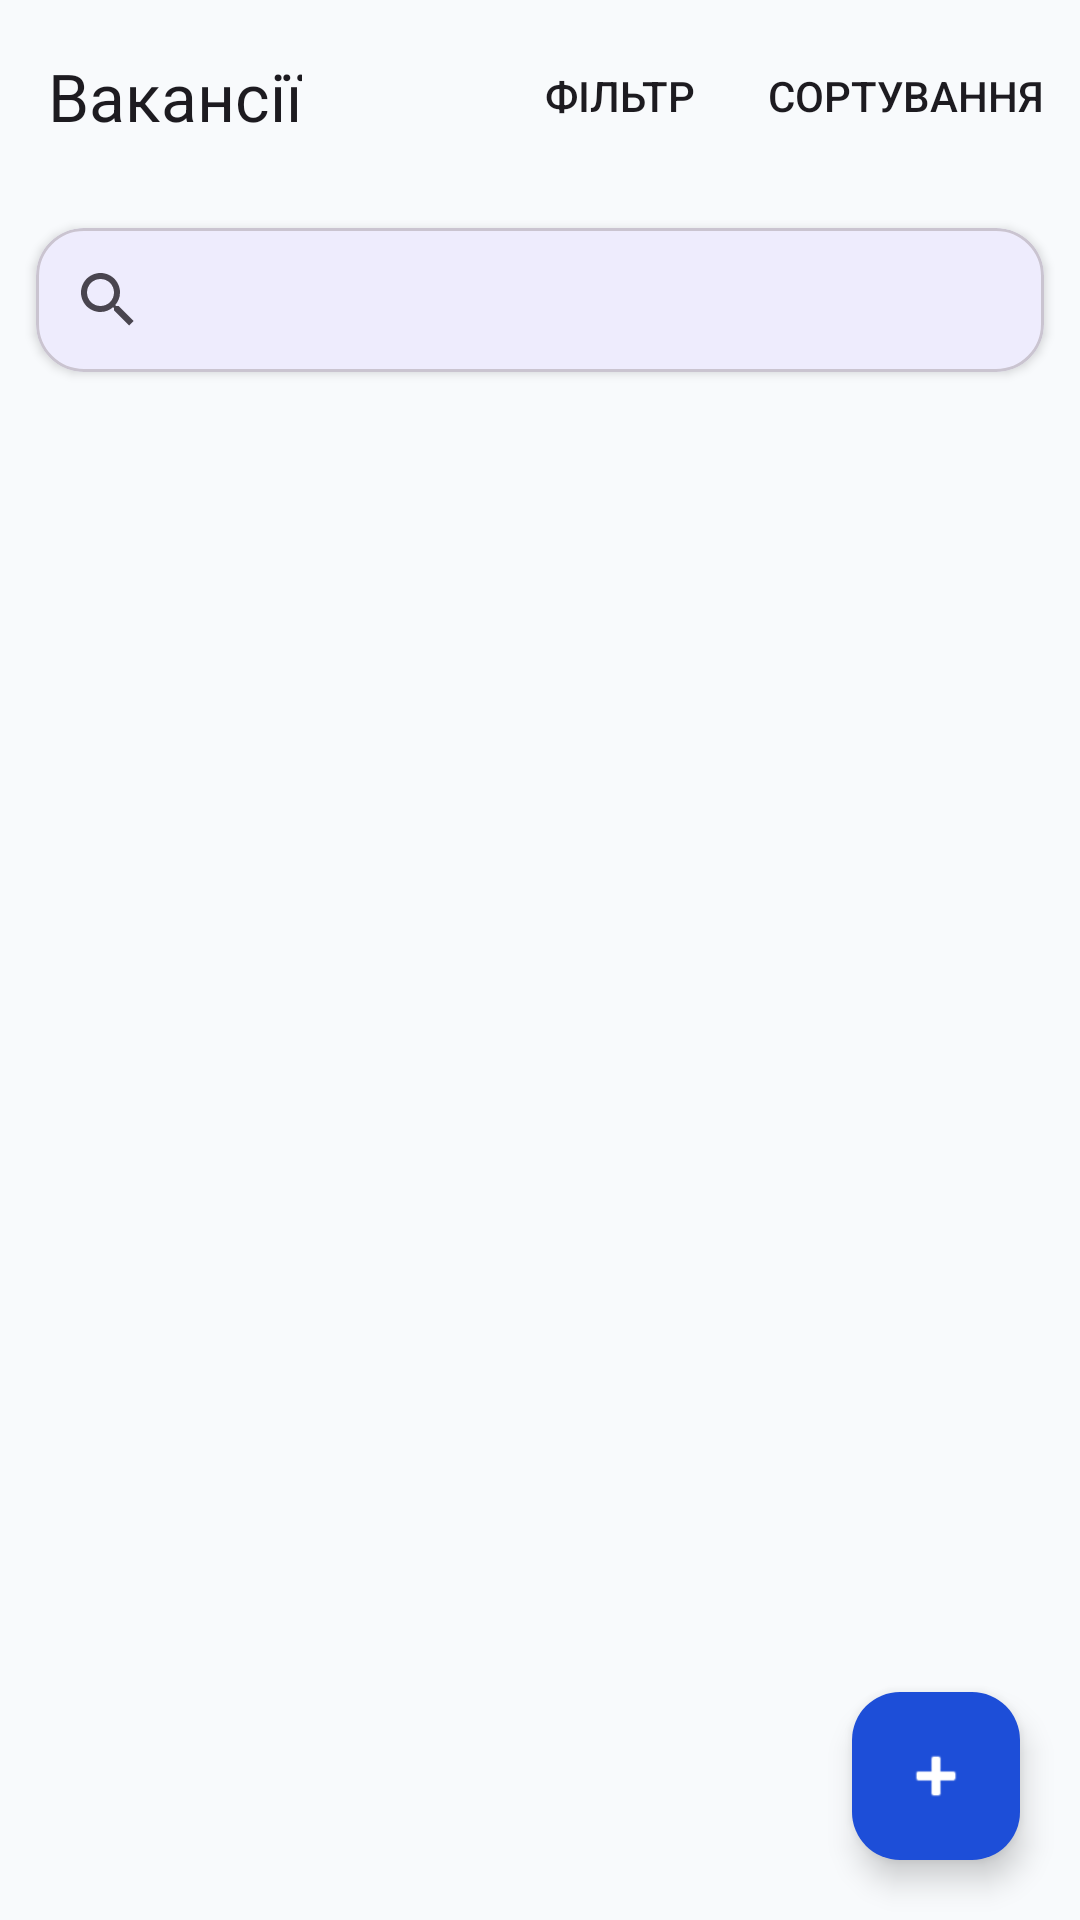

Screen size 1080 × 1920. Icon name, then its center in pixels as (x=x, y=y):
Add Job: (x=936, y=1776)
